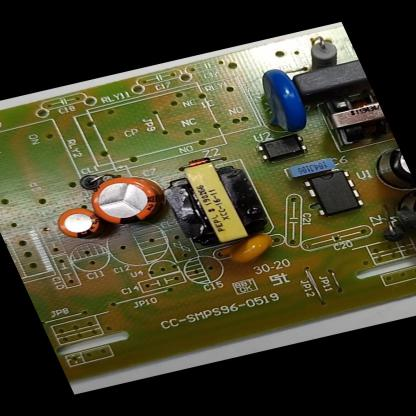Cap1: (76, 164, 174, 236)
Cap2: (42, 196, 114, 251)
Cap3: (360, 138, 416, 202)
Cap4: (385, 189, 415, 247)
MOSFET: (297, 163, 377, 223)
Mov: (246, 62, 318, 137)
Resistor: (301, 32, 348, 69)
Transformer: (148, 151, 284, 256), (312, 85, 394, 151)
